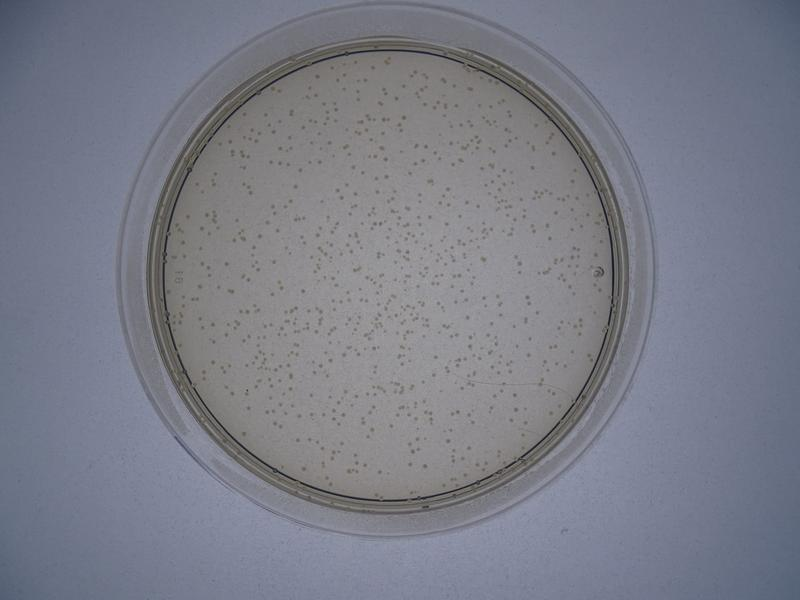colony: (291, 180, 301, 190), (307, 391, 316, 400), (220, 259, 228, 269), (474, 201, 482, 210), (532, 308, 539, 318), (299, 287, 307, 295), (268, 258, 277, 265), (545, 235, 554, 241)
